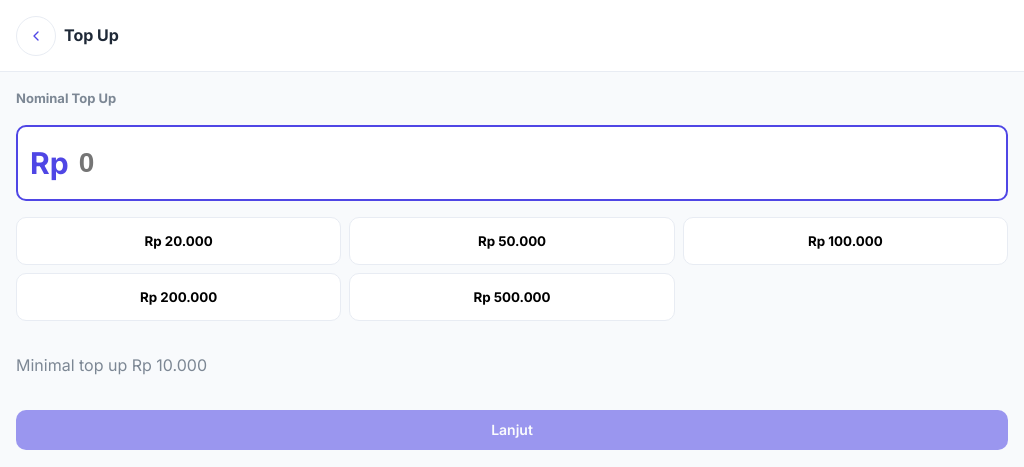
Test case: TopUp (4C) › selects preset amount and proceeds to channel
This screenshot has width=1024, height=467.
Click the button "Rp 50.000" at (512,241), box [349, 217, 675, 265]
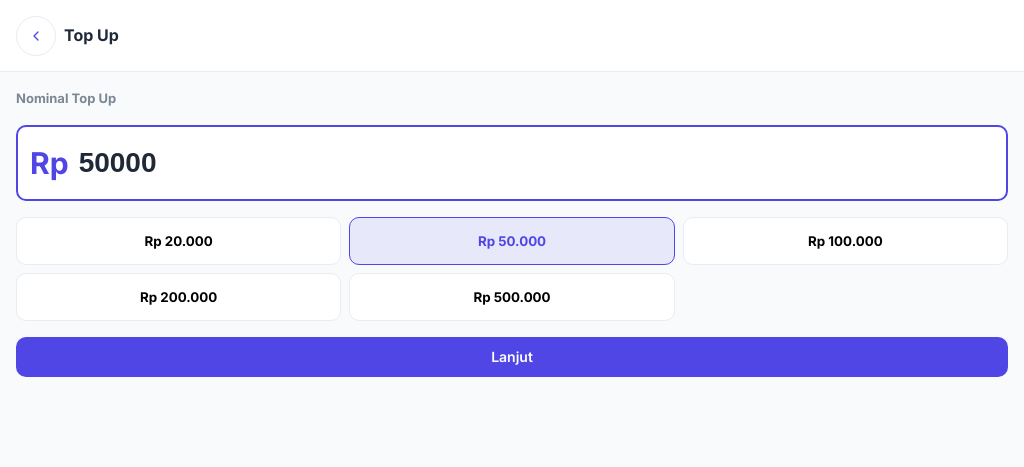
Click the button "Lanjut" at (512,357), box [16, 337, 1008, 377]
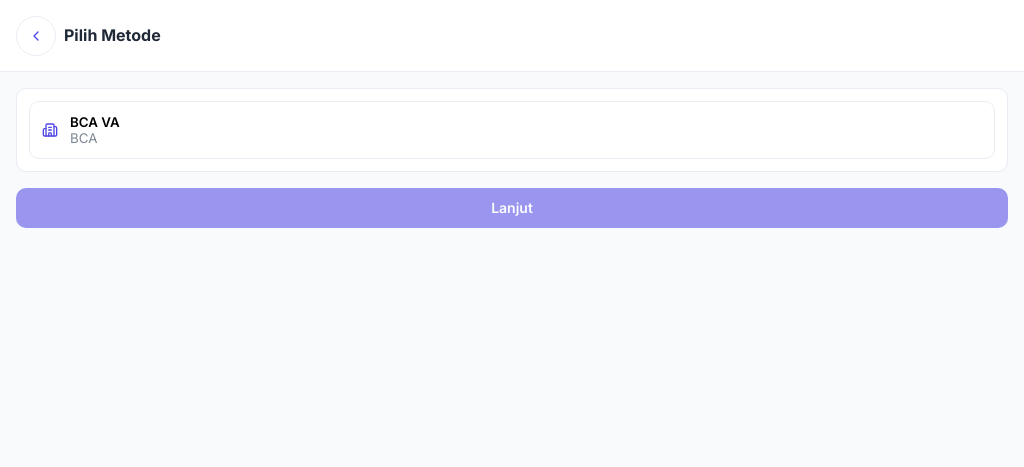
Now the heading "Pilih Metode" is shown, box [64, 25, 161, 45]
